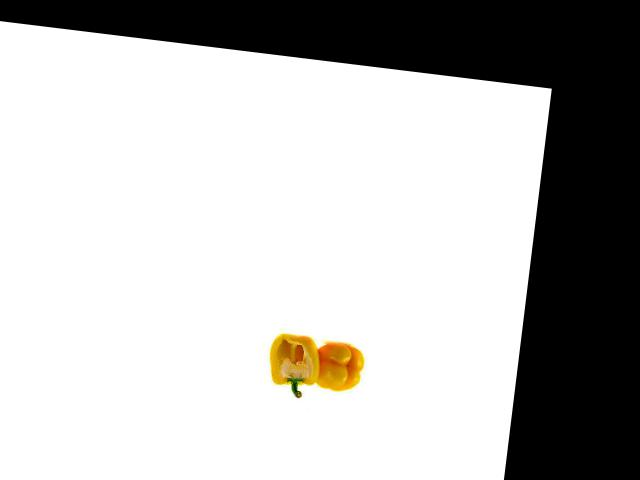bell_pepper: (261, 320, 333, 402)
